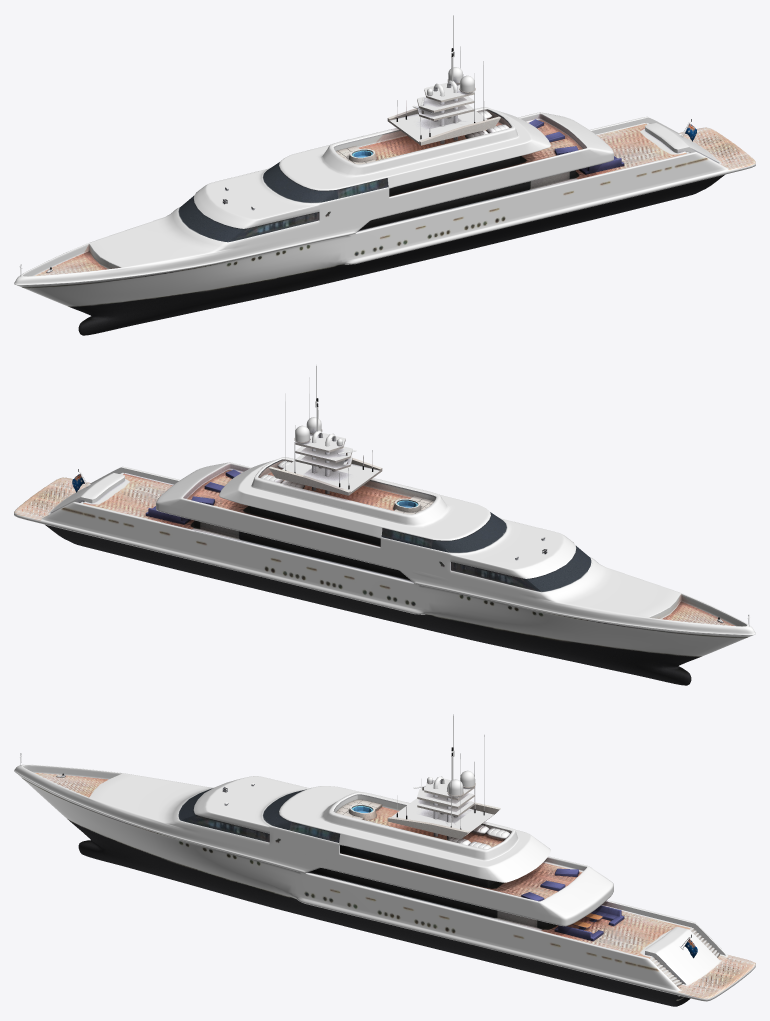
The model's file is yacht.glb.
3 renders of one model, top to bottom at view 1: azimuth 30°, elevation 25°; view 2: azimuth 150°, elevation 25°; view 3: azimuth 330°, elevation 25°, orthographic.
Visible parts, largest first — view 1: Object003_Object003_mtl_0, Object001_Object001_mtl_0, Object004_Object004_mtl_0, Object002_Object002_mtl_0; view 2: Object003_Object003_mtl_0, Object002_Object002_mtl_0, Object004_Object004_mtl_0, Object001_Object001_mtl_0; view 3: Object001_Object001_mtl_0, Object004_Object004_mtl_0, Object003_Object003_mtl_0, Object002_Object002_mtl_0.
Boxes of the visible parts, x1,y1,x2,y2 form: Object003_Object003_mtl_0: (14,186,378,335); Object001_Object001_mtl_0: (19,15,726,276); Object004_Object004_mtl_0: (203,107,613,221); Object002_Object002_mtl_0: (349,48,755,278); Object003_Object003_mtl_0: (234,513,755,685); Object002_Object002_mtl_0: (14,398,420,628); Object004_Object004_mtl_0: (156,457,566,575); Object001_Object001_mtl_0: (72,364,749,626); Object001_Object001_mtl_0: (19,714,719,991); Object004_Object004_mtl_0: (203,776,613,926); Object003_Object003_mtl_0: (14,764,328,921); Object002_Object002_mtl_0: (317,747,755,1006).
Size of the model in its own units: 1874 by 578 by 232.
4 materials, 4 textured.
